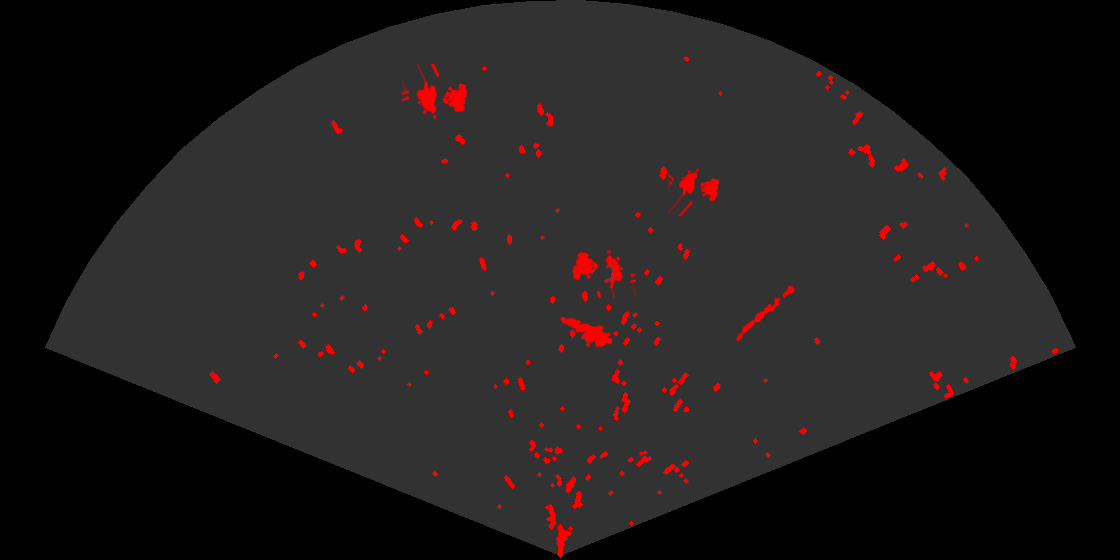cage: (402, 64, 469, 120), (571, 248, 636, 298), (668, 167, 721, 216)
chain: (735, 278, 801, 343)
frogman: (558, 315, 612, 349)
